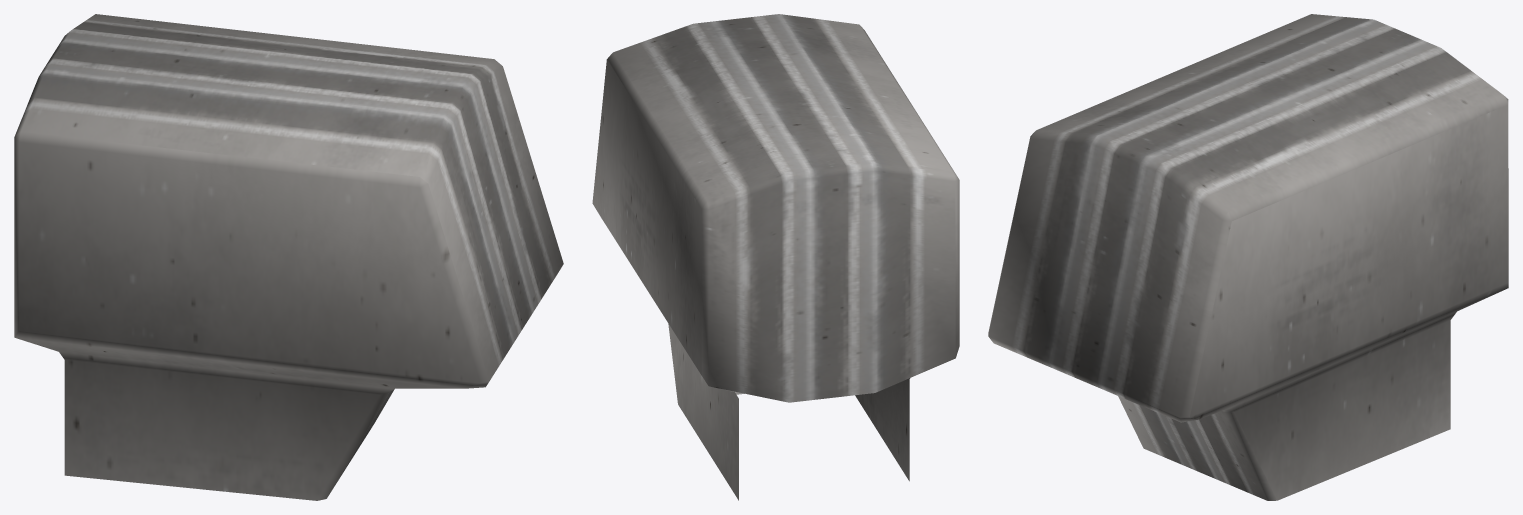
The model's file is SM_Corner_Roof_02.fbx.
3 views of the same model, side by side, from view 1: azimuth 30°, elevation 25°; view 2: azimuth 150°, elevation 25°; view 3: azimuth 270°, elevation 25° (orthographic). The views are drawn at different scales.
Parts seen in each view (by area): view 1: SM_Corner_Roof_02.001; view 2: SM_Corner_Roof_02.001; view 3: SM_Corner_Roof_02.001.
Boxes of the visible parts, bbox=[...] form: SM_Corner_Roof_02.001: bbox=[14, 14, 563, 500]; SM_Corner_Roof_02.001: bbox=[592, 14, 959, 500]; SM_Corner_Roof_02.001: bbox=[988, 14, 1508, 500].
Size of the model in its own units: 233 by 233 by 177.
